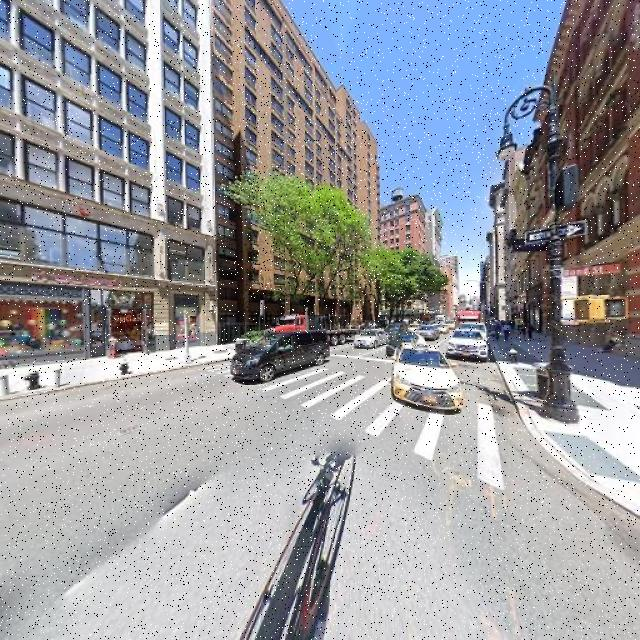Building: (1, 1, 220, 364), (545, 1, 640, 372)
